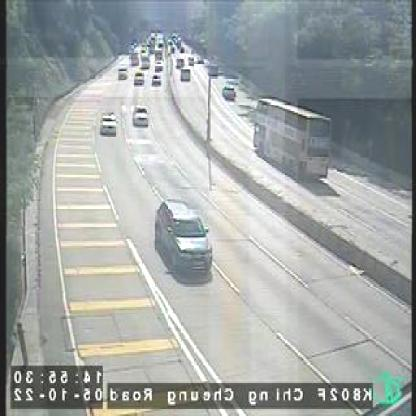Bus: (255, 99, 333, 182)
Car: (156, 199, 213, 276), (134, 104, 149, 127), (103, 111, 118, 133), (118, 64, 130, 80), (224, 85, 235, 100), (135, 70, 146, 84), (182, 66, 191, 80), (152, 73, 161, 85), (156, 59, 165, 69), (176, 57, 184, 68)
Truck: (141, 50, 150, 68)
